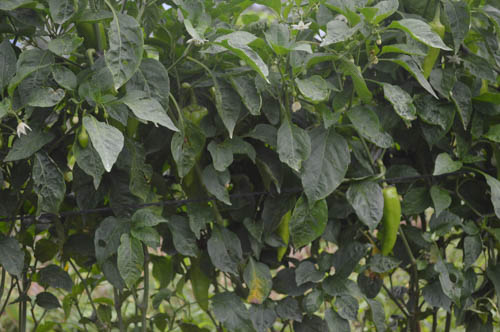ChiliPepper: (380, 188, 403, 263)
